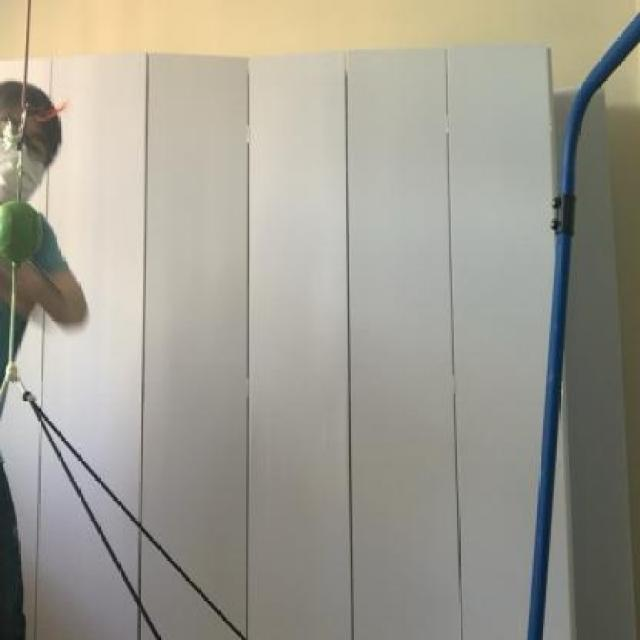baseball: (0, 192, 66, 277)
